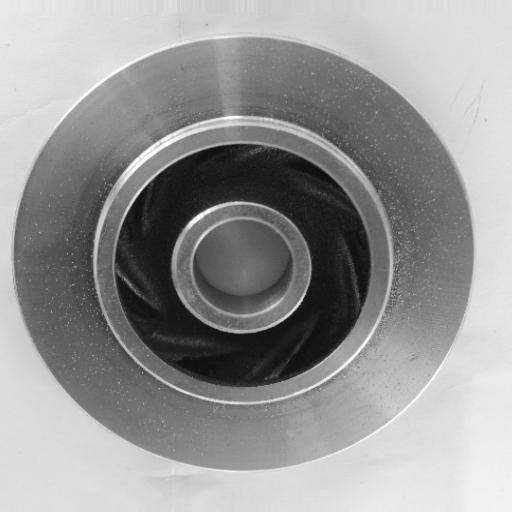polished_casting: (13, 36, 478, 473)
